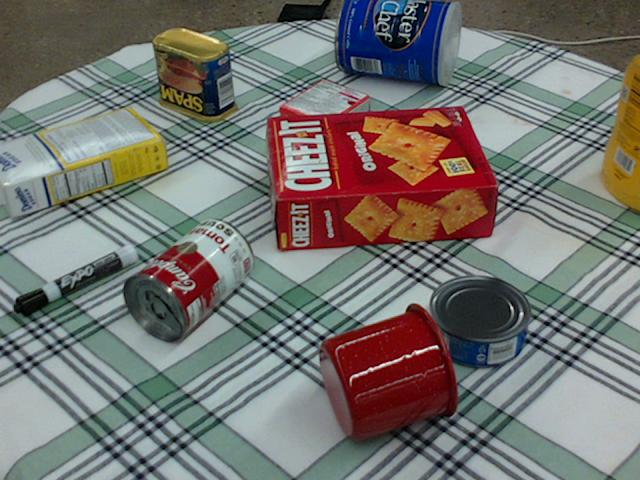cracker_box: (270, 105, 496, 249)
gelatin_box: (278, 76, 369, 144)
large_marker: (11, 244, 136, 316)
master_chef_can: (334, 0, 459, 84)
mug: (317, 299, 461, 442)
mustard_bottle: (600, 53, 639, 211)
potted_meat_can: (152, 28, 237, 121)
sugar_box: (0, 107, 166, 216)
tomato_soup_can: (122, 216, 253, 340)
tuna_fish_can: (429, 274, 532, 367)
